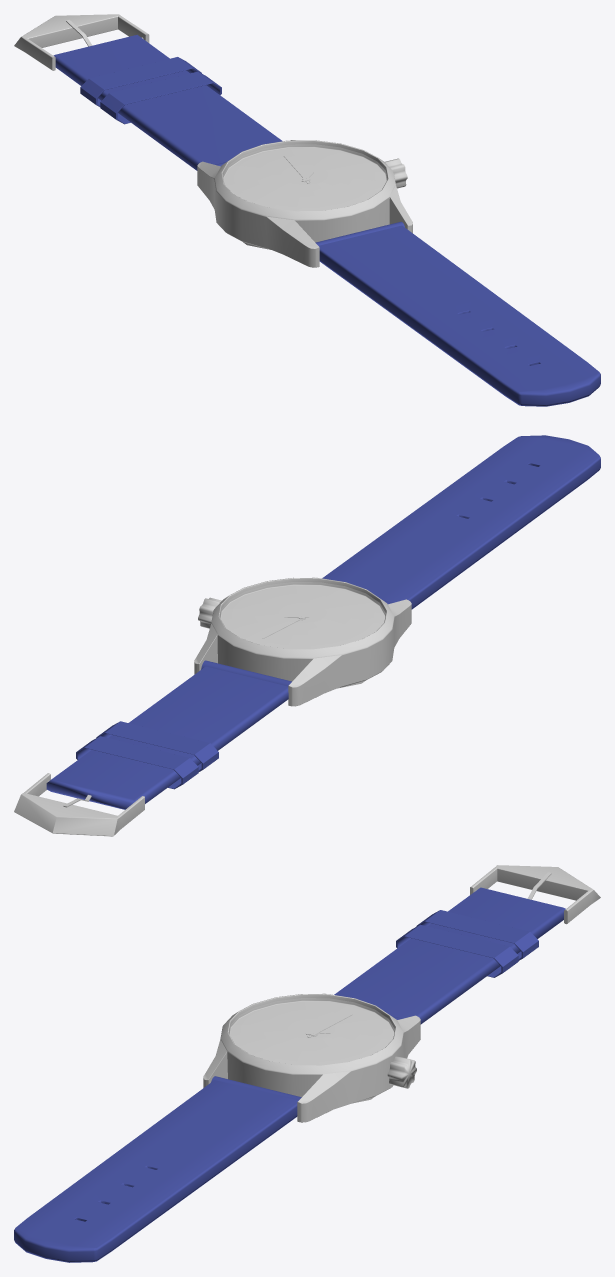
Rendered from watch_updatedUV_11-5.fbx.
3 renders of one model, top to bottom at view 1: azimuth 30°, elevation 25°; view 2: azimuth 150°, elevation 25°; view 3: azimuth 330°, elevation 25°, orthographic.
Visible parts, largest first — view 1: HolepunchedStrap, Watch_Face, BuckleStrap, Glass_Cover, Buckle, Loop_FurthestBuckle, Loop_ClosestBuckle; view 2: HolepunchedStrap, Watch_Face, BuckleStrap, Glass_Cover, Buckle, Loop_ClosestBuckle, Loop_FurthestBuckle, ConnectWatchFace_BuckleSide; view 3: HolepunchedStrap, Watch_Face, BuckleStrap, Glass_Cover, Buckle, Loop_FurthestBuckle, Loop_ClosestBuckle, TimeAdjustKnob.
Boxes of the visible parts, x1,y1,x2,y2 form: HolepunchedStrap: (319,225,600,406); Watch_Face: (197,140,412,267); BuckleStrap: (53,34,282,170); Glass_Cover: (223,144,386,210); Buckle: (14,14,149,70); Loop_FurthestBuckle: (100,71,221,124); Loop_ClosestBuckle: (80,57,201,106); HolepunchedStrap: (322,435,600,609); Watch_Face: (194,577,411,706); BuckleStrap: (46,666,288,809); Glass_Cover: (220,582,385,648); Buckle: (14,773,144,836); Loop_ClosestBuckle: (76,736,198,789); Loop_FurthestBuckle: (96,721,218,771); ConnectWatchFace_BuckleSide: (201,660,291,686); HolepunchedStrap: (14,1080,298,1262); Watch_Face: (203,993,420,1122); BuckleStrap: (334,887,565,1024); Glass_Cover: (229,998,394,1065); Buckle: (470,865,600,924); Loop_FurthestBuckle: (396,924,518,977); Loop_ClosestBuckle: (416,910,538,960); TimeAdjustKnob: (387,1056,416,1088).
Size of the model in its own units: 6.44 by 1.57 by 32.89.
